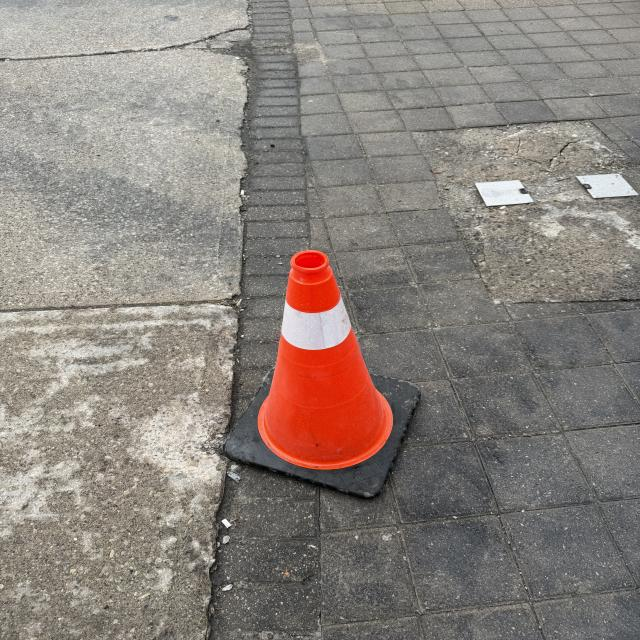Traffic Cone: (222, 251, 424, 498)
